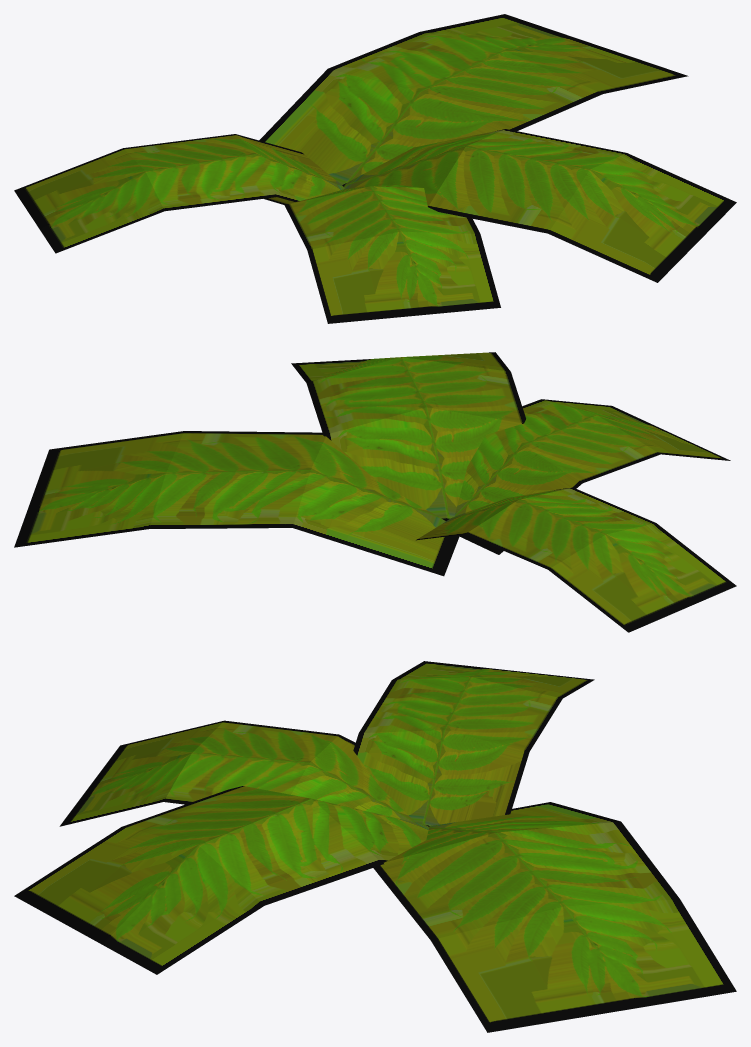
The model's file is FernLeafSprout3.fbx.
3 views of the same model, one above another, from view 1: azimuth 30°, elevation 25°; view 2: azimuth 150°, elevation 25°; view 3: azimuth 270°, elevation 25° (orthographic). The views are drawn at different scales.
Parts seen in each view (by area): view 1: FernLeafSprout3; view 2: FernLeafSprout3; view 3: FernLeafSprout3.
Part boxes in pixels (x1,y1,x2,y2): FernLeafSprout3: (14,14,736,323); FernLeafSprout3: (14,352,736,632); FernLeafSprout3: (14,661,736,1032).
Size of the model in its own units: 258 by 24.47 by 214.
